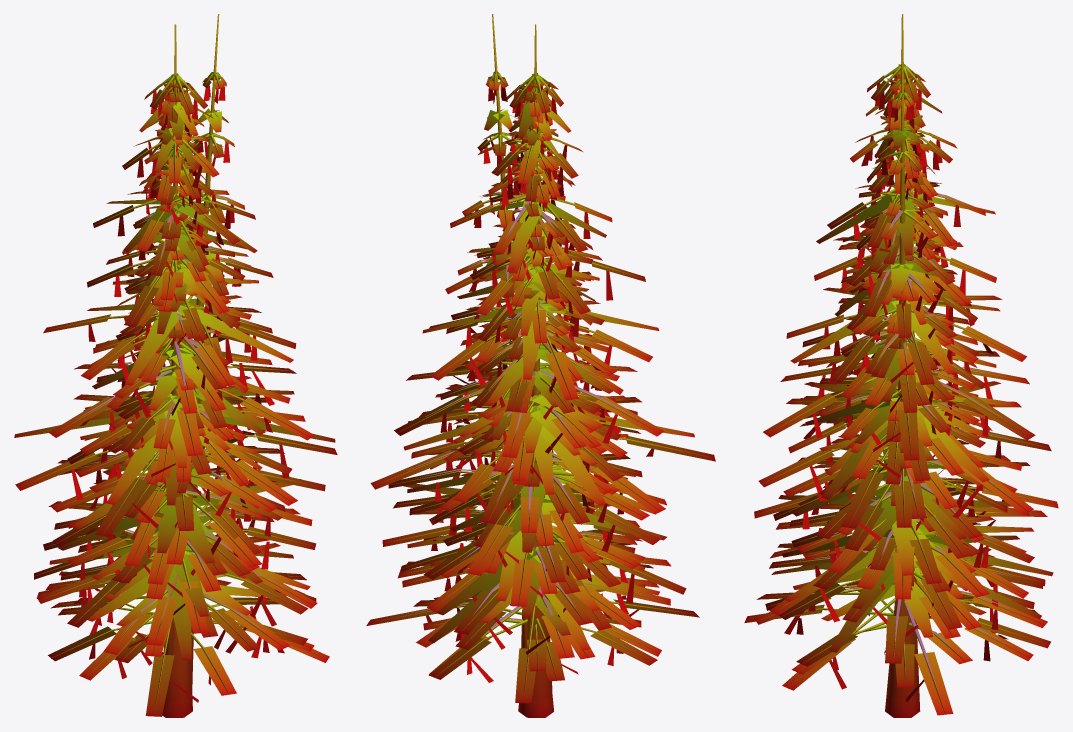
Rendered from larch.glb.
3 views of the same model, side by side, from view 1: azimuth 30°, elevation 25°; view 2: azimuth 150°, elevation 25°; view 3: azimuth 270°, elevation 25° (orthographic).
Parts seen in each view (by area): view 1: v3, v1, v6, v9, v0, v8, v3_far, v5, v7, v4, v7_far, v2 (+8 smaller); view 2: v3, v1, v9, v8, v6, v0, v7, v3_far, v5, v4, v0_far, v7_far (+8 smaller); view 3: v3, v1, v6, v9, v8, v5, v0, v3_far, v7, v6_far, v4, v7_far (+8 smaller).
Part boxes in pixels (box(x1,y1,x2,y2)): v3: box(15, 75, 337, 537); v1: box(34, 88, 329, 716); v6: box(36, 14, 312, 717); v9: box(48, 88, 325, 717); v0: box(43, 24, 306, 717); v8: box(48, 80, 314, 695); v3_far: box(14, 101, 335, 504); v5: box(36, 87, 306, 655); v7: box(53, 91, 274, 567); v4: box(73, 82, 307, 665); v7_far: box(57, 115, 282, 529); v2: box(78, 73, 265, 599); v3: box(370, 74, 715, 523); v1: box(366, 88, 699, 703); v9: box(382, 103, 649, 717); v8: box(402, 79, 657, 682); v6: box(393, 14, 671, 717); v0: box(413, 24, 659, 717); v7: box(409, 91, 660, 575); v3_far: box(403, 100, 694, 505); v5: box(416, 87, 670, 659); v4: box(423, 85, 641, 671); v0_far: box(436, 30, 627, 715); v7_far: box(407, 115, 655, 552); v3: box(758, 64, 1051, 528); v1: box(756, 79, 1037, 715); v6: box(779, 35, 1042, 697); v9: box(776, 133, 1047, 597); v8: box(744, 70, 1050, 687); v5: box(754, 78, 1047, 663); v0: box(765, 14, 1034, 717); v3_far: box(790, 90, 1000, 499); v7: box(754, 81, 1058, 558); v6_far: box(782, 69, 1034, 698); v4: box(796, 73, 997, 666); v7_far: box(792, 107, 1030, 539).
Bounding box in the file's own units: 5.45 × 12.3 × 5.03.
